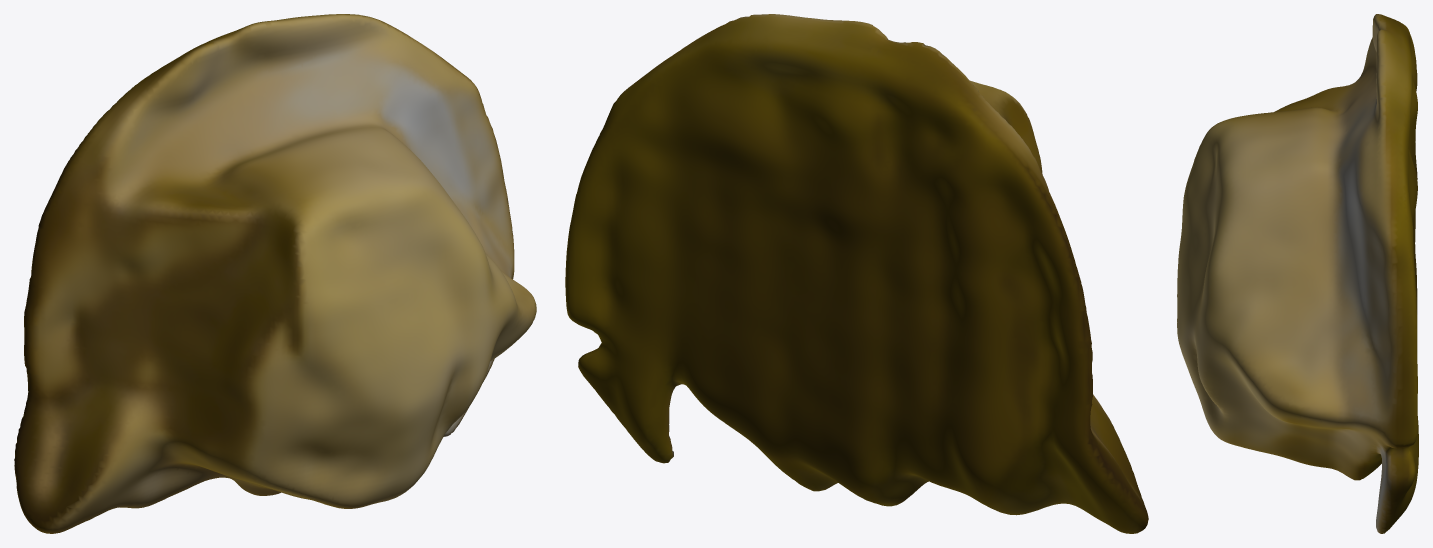
The model's file is hat.glb.
The picture shows the model from 3 angles, left to right: view 1: azimuth 30°, elevation 25°; view 2: azimuth 150°, elevation 25°; view 3: azimuth 270°, elevation 25°; orthographic projection. The views are drawn at different scales.
Size of the model in its own units: 0.9983 by 0.8585 by 0.4477.
